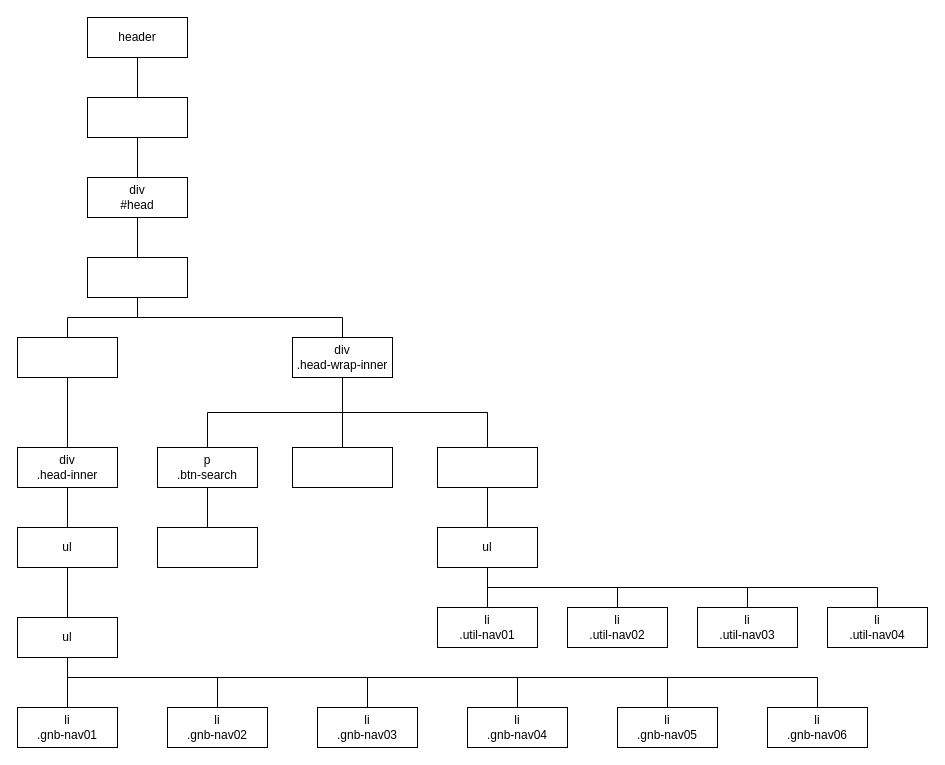
This 945x765 diagram has some shape labels left out. The centre of each missing label's shape, as x and y in pixels:
"a > img" goes at (207,547).
"div #headerWrap" goes at (137,117).
"div .head-wrap" goes at (137,277).
"h1 .logo" goes at (342,467).
"nav .head-nav" goes at (67,357).
"nav .util-nav" goes at (487,467).
